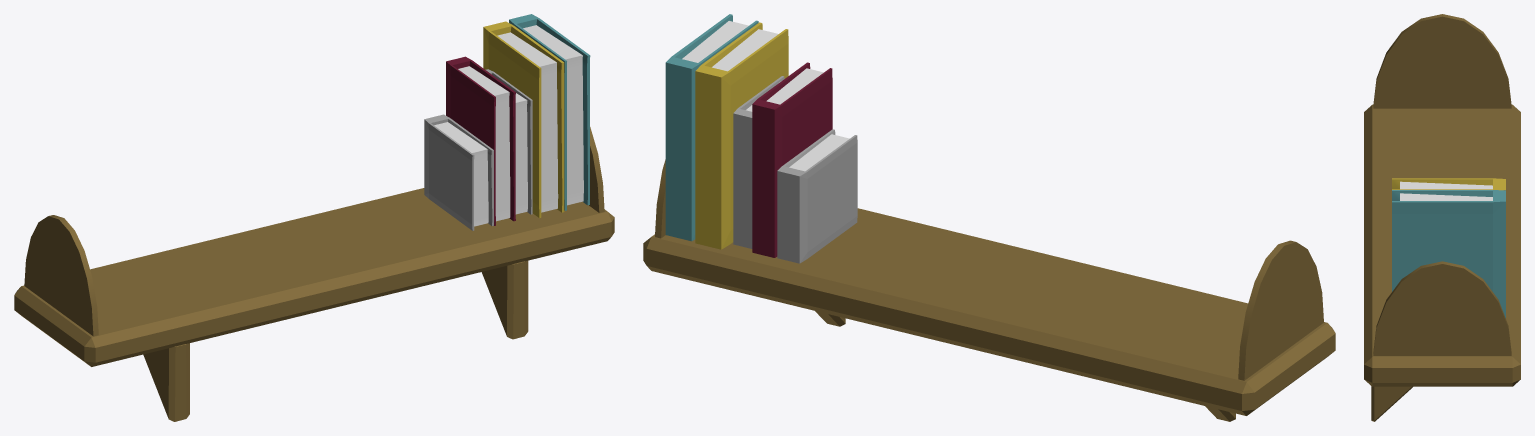
The model's file is Book_Shelf.fbx.
3 renders of one model, left to right at view 1: azimuth 30°, elevation 25°; view 2: azimuth 150°, elevation 25°; view 3: azimuth 270°, elevation 25°, orthographic. The views are drawn at different scales.
Visible parts, largest first — view 1: polySurface5, Book1, Book3, Book5, Book4, Book2; view 2: polySurface5, Book1, Book3, Book5, Book4, Book2; view 3: polySurface5, Book4, Book1.
Part boxes in pixels (<box>): polySurface5: <box>14,127,614,421</box>; Book1: <box>483,21,564,217</box>; Book3: <box>446,56,515,225</box>; Book5: <box>424,114,493,230</box>; Book4: <box>509,14,590,210</box>; Book2: <box>485,69,532,214</box>; polySurface5: <box>643,159,1335,421</box>; Book1: <box>695,22,788,249</box>; Book3: <box>752,62,832,257</box>; Book5: <box>777,129,857,263</box>; Book4: <box>665,14,758,241</box>; Book2: <box>733,76,784,248</box>; polySurface5: <box>1364,14,1520,421</box>; Book4: <box>1392,190,1505,318</box>; Book1: <box>1392,178,1505,190</box>.
Bounding box in the file's own units: 1.88 × 0.8689 × 0.4813.
